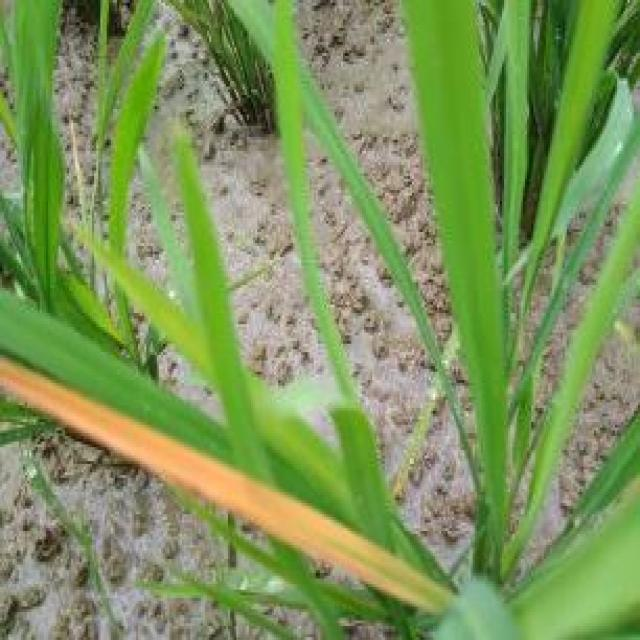Tungro: (6, 346, 440, 640)
